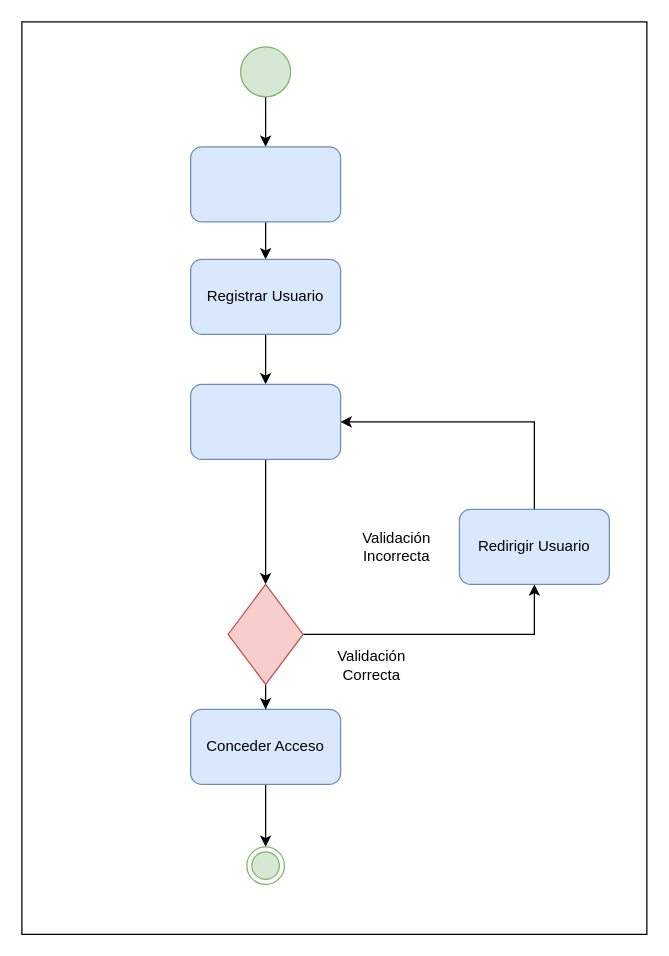
This 669x956 diagram has some shape labels left out. Here are the shapes that lost their labels. From the top down, the box of each, then its label:
(189, 146, 341, 222): Ingresar a la Aplicación
(189, 383, 341, 459): Enviar Correo de Verificación
